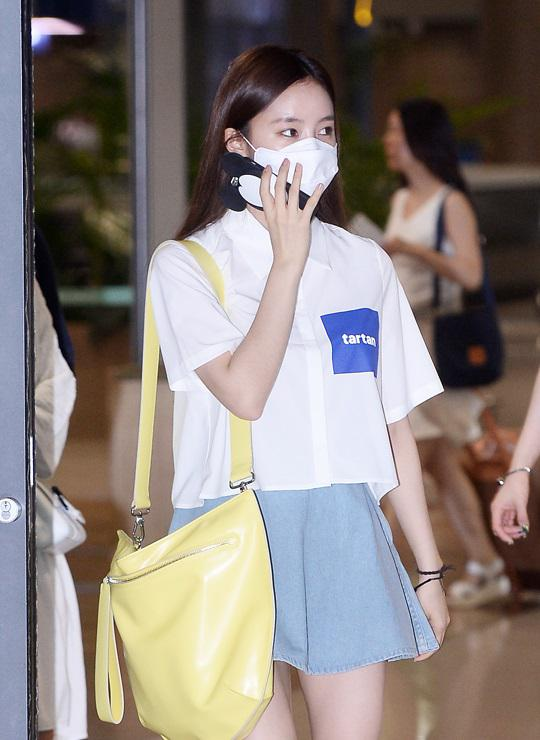NONE: (383, 122, 420, 171)
OK: (244, 102, 350, 208)
